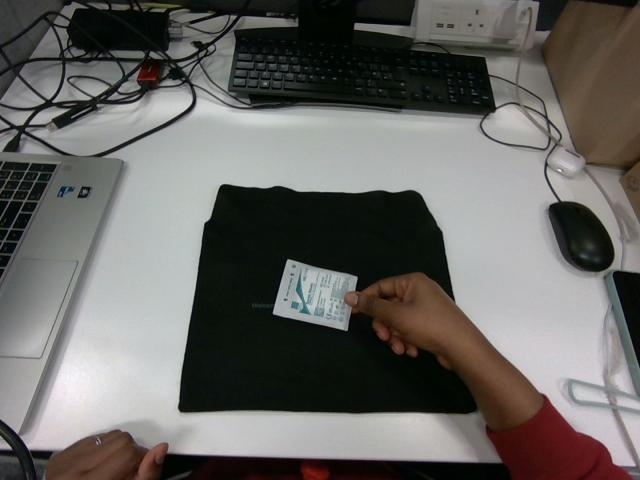gauze: (273, 259, 357, 330)
